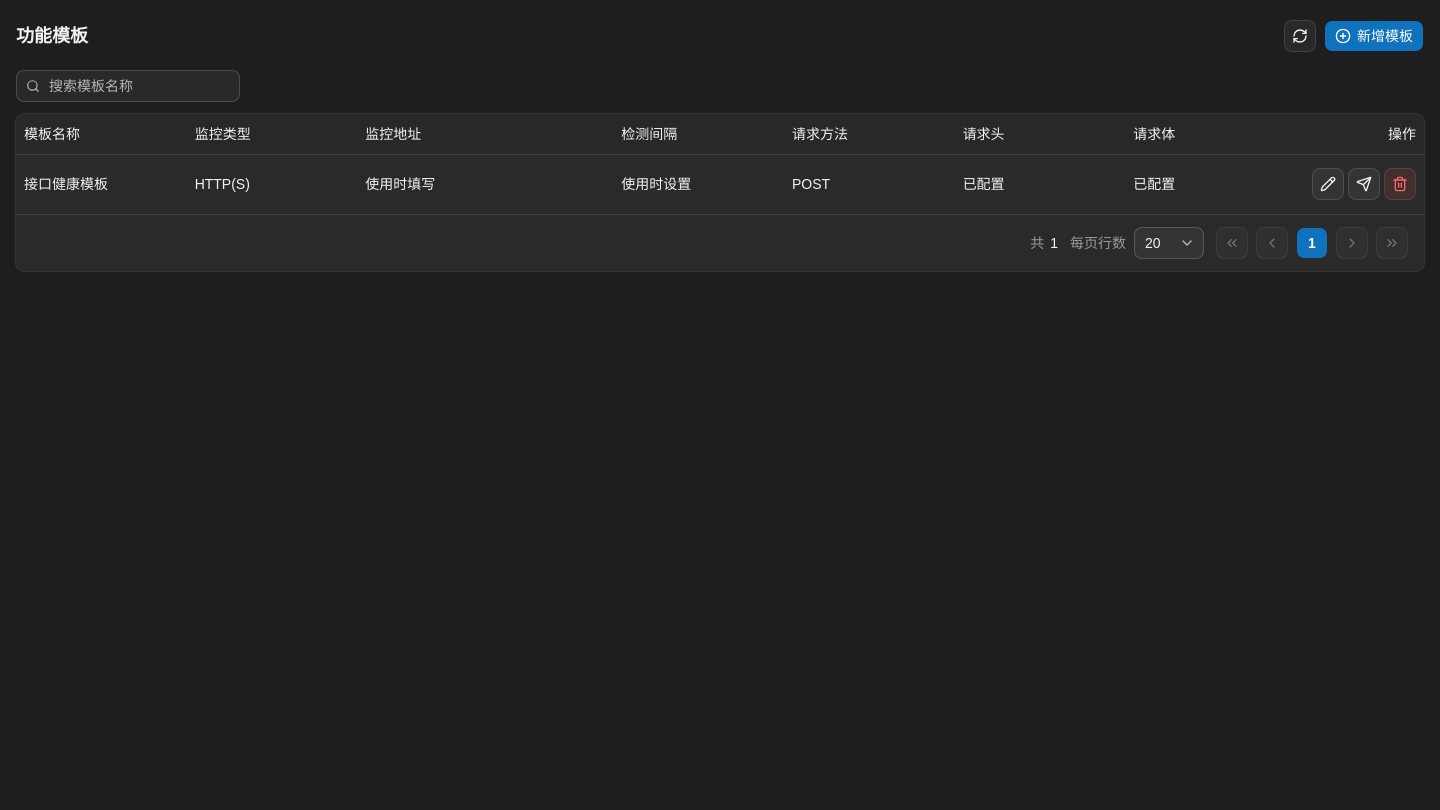
Test case: 模板列表的参数下发入口打开当前模板影响范围
Click the button named "参数下发".
click(1364, 184)  # box [1348, 168, 1380, 200]
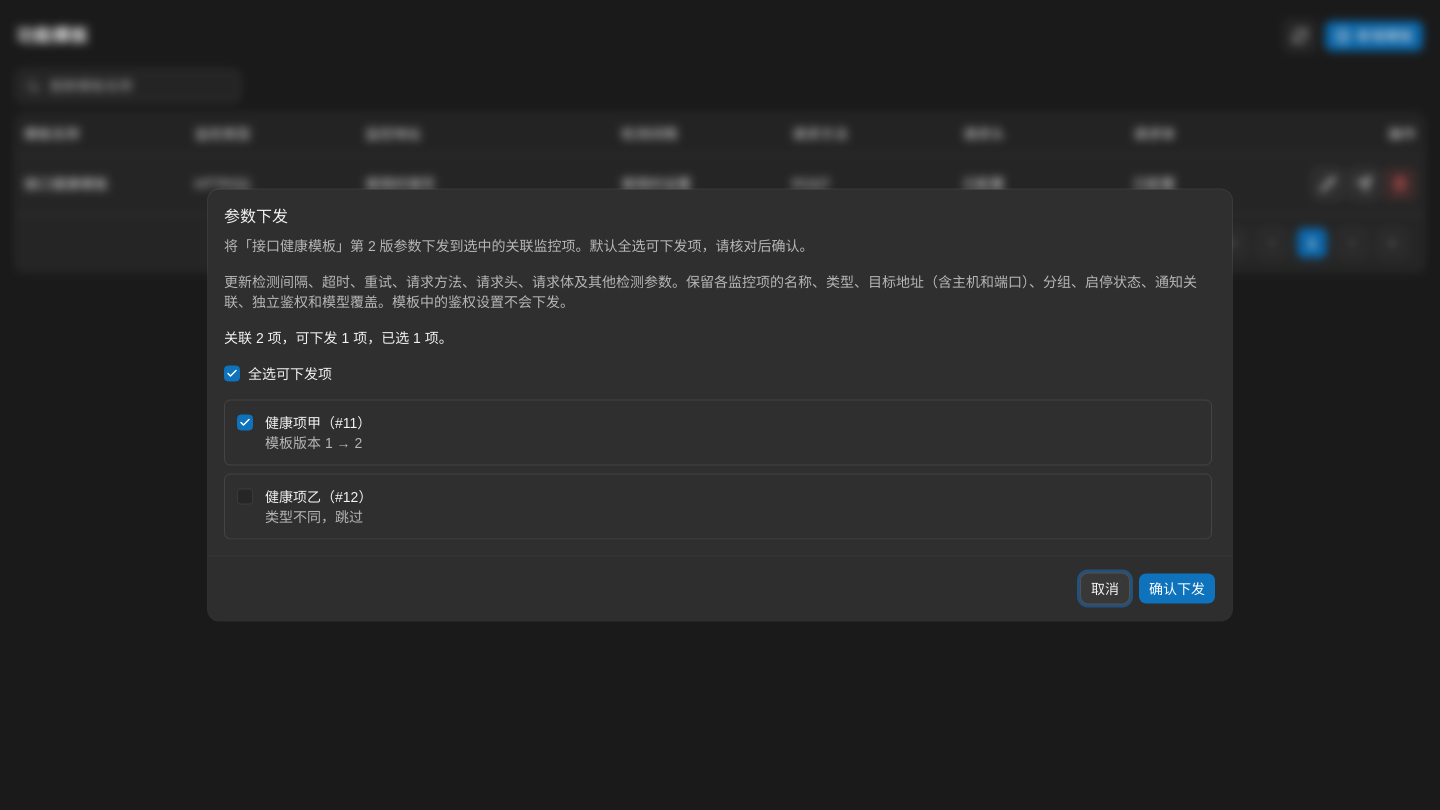
expect the dialog shows "第 2 版参数": met, box [208, 190, 1232, 620]
expect the list named "参数下发影响范围" shows "健康项甲": met, box [265, 414, 321, 430]
